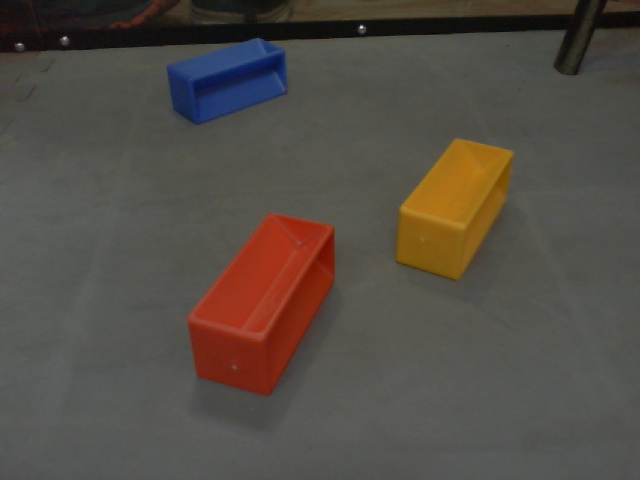BlueSample: (164, 38, 289, 125)
RedSample: (184, 210, 337, 401)
YellowSample: (394, 136, 518, 282)
